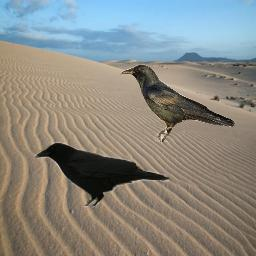Crow: (31, 139, 169, 208), (119, 64, 236, 142)
